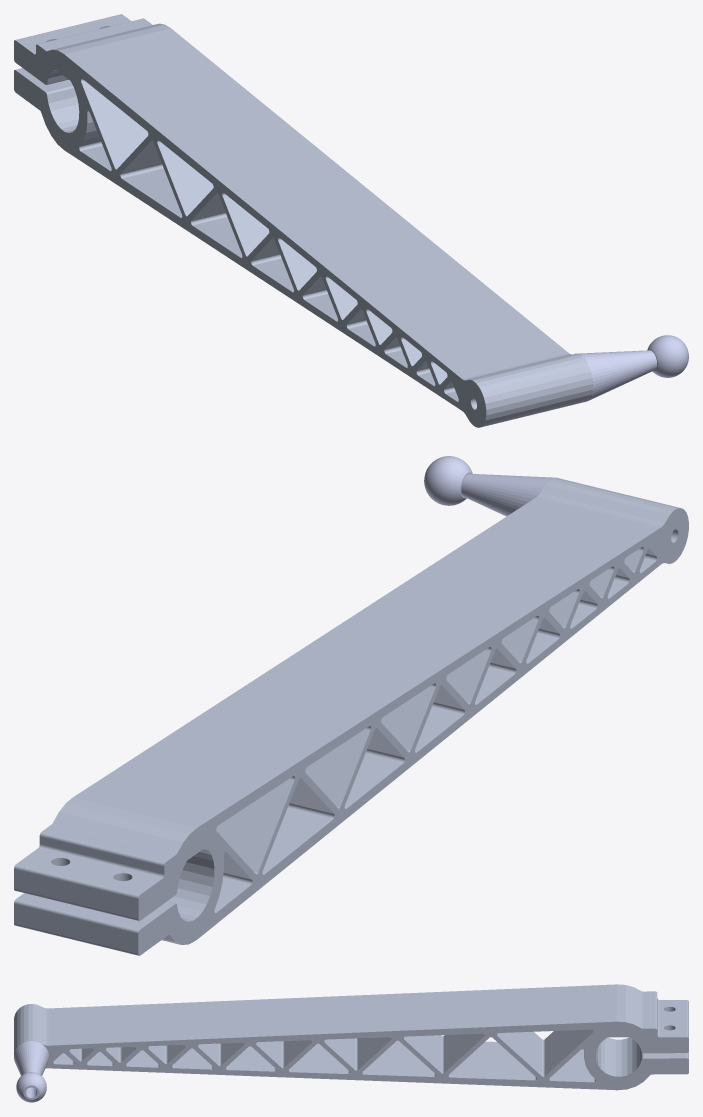
The model's file is upperArm.dae.
3 views of the same model, one above another, from view 1: azimuth 30°, elevation 25°; view 2: azimuth 150°, elevation 25°; view 3: azimuth 270°, elevation 25° (orthographic). The views are drawn at different scales.
Visible parts, largest first — view 1: Component (×12); view 2: Component (×13); view 3: Component (×19).
Boxes of the visible parts, x1,y1,x2,y2 form: Component (×12): (14, 14, 688, 427); Component (×13): (14, 456, 688, 955); Component (×19): (14, 984, 688, 1102).
Size of the model in its own units: 1.16 by 4.52 by 0.5074.
